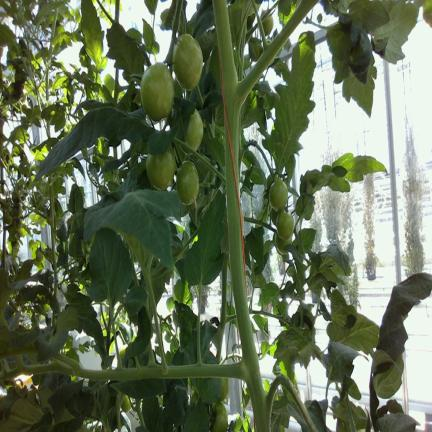6kp_peduncle: (243, 354, 318, 432)
6kp_petiole: (216, 18, 271, 178), (203, 309, 270, 432)
MainStem: (212, 0, 271, 432), (216, 253, 228, 360)
tomato: (140, 62, 174, 121), (173, 34, 202, 89), (146, 145, 176, 189), (176, 161, 199, 204), (186, 109, 203, 150), (269, 178, 288, 211), (211, 401, 228, 431), (277, 211, 294, 239), (275, 233, 292, 253), (248, 37, 262, 60), (218, 377, 230, 401), (262, 13, 273, 35), (12, 203, 22, 221), (121, 395, 131, 412), (12, 218, 22, 232), (119, 344, 128, 358), (35, 248, 43, 262), (4, 211, 12, 224), (44, 247, 51, 260), (191, 391, 198, 404)
